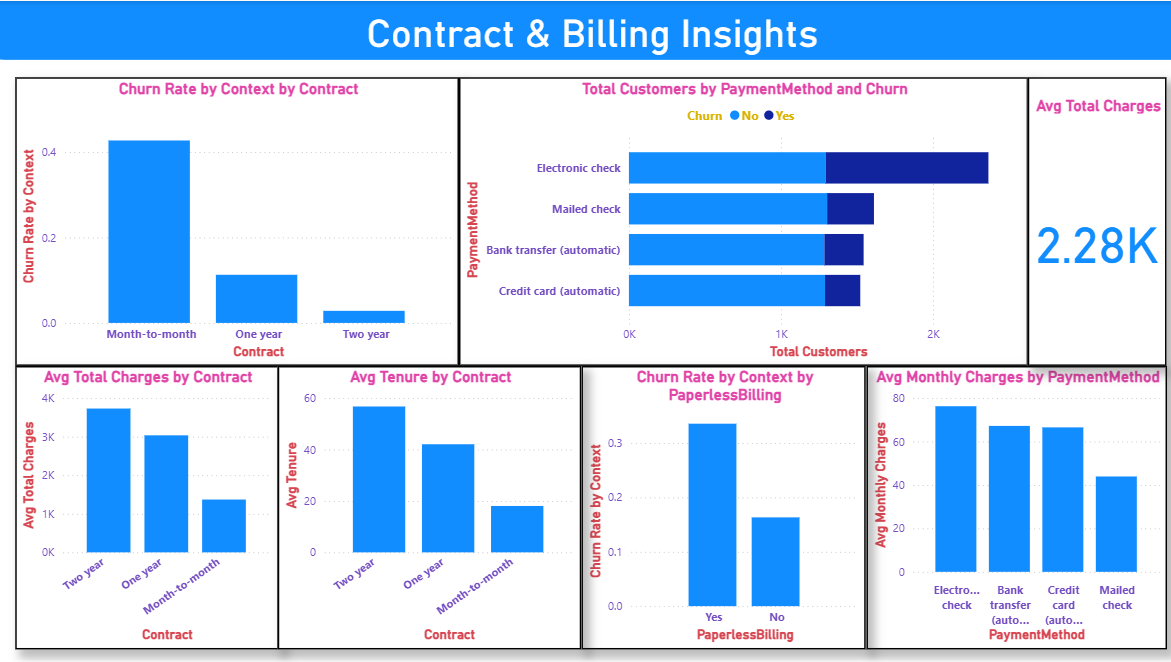

The page's visual inventory and layout, read from the dashboard file:
{"tool":"powerbi","page":{"name":"Page 3","canvas":[1280,720],"ordinal":2},"visuals":[{"type":"textbox","title":"Contract & Billing Insights","box":[0,0,1280.3,65.9],"z":0},{"type":"clusteredColumnChart","fields":{"Y":["CustomerChurnAnalysis.Churn Rate by Context"],"Category":["CustomerChurnAnalysis.Contract"]},"box":[17.6,82.2,478.6,311.3],"z":1000},{"type":"barChart","fields":{"Series":["CustomerChurnAnalysis.Churn"],"Y":["CustomerChurnAnalysis.Total Customers"],"Category":["CustomerChurnAnalysis.PaymentMethod"]},"box":[495.4,82.1,613.5,311.1],"z":2000},{"type":"clusteredColumnChart","fields":{"Y":["CustomerChurnAnalysis.Avg Total Charges"],"Category":["CustomerChurnAnalysis.Contract"]},"box":[17.3,393.2,283.7,305.3],"z":3000},{"type":"columnChart","fields":{"Y":["CustomerChurnAnalysis.Avg Monthly Charges"],"Category":["CustomerChurnAnalysis.PaymentMethod"]},"box":[934.7,393.2,324,305.3],"z":4000},{"type":"clusteredColumnChart","fields":{"Category":["CustomerChurnAnalysis.PaperlessBilling"],"Y":["CustomerChurnAnalysis.Churn Rate by Context"]},"box":[627.9,393.2,306.8,305.3],"z":5000},{"type":"columnChart","fields":{"Category":["CustomerChurnAnalysis.Contract"],"Y":["CustomerChurnAnalysis.Avg Tenure"]},"box":[301,393.2,326.9,305.3],"z":6000},{"type":"card","title":"Avg Total Charges","fields":{"Values":["CustomerChurnAnalysis.Avg Total Charges"]},"box":[1108.9,82.1,149.8,311.1],"z":7000}]}

Visuals, with their boxes in screenshot pixels (x1, y1, x2, y2), scaled from the page's 1280x720 canvas onto the 1171x662 screenshot:
"Contract & Billing Insights" textbox: (x1=0, y1=0, x2=1170, y2=61)
clusteredColumnChart - CustomerChurnAnalysis.Churn Rate by Context x CustomerChurnAnalysis.Contract: (x1=16, y1=76, x2=454, y2=362)
barChart - CustomerChurnAnalysis.Churn x CustomerChurnAnalysis.Total Customers: (x1=453, y1=75, x2=1014, y2=362)
clusteredColumnChart - CustomerChurnAnalysis.Avg Total Charges x CustomerChurnAnalysis.Contract: (x1=16, y1=362, x2=275, y2=642)
columnChart - CustomerChurnAnalysis.Avg Monthly Charges x CustomerChurnAnalysis.PaymentMethod: (x1=855, y1=362, x2=1152, y2=642)
clusteredColumnChart - CustomerChurnAnalysis.PaperlessBilling x CustomerChurnAnalysis.Churn Rate by Context: (x1=574, y1=362, x2=855, y2=642)
columnChart - CustomerChurnAnalysis.Contract x CustomerChurnAnalysis.Avg Tenure: (x1=275, y1=362, x2=574, y2=642)
"Avg Total Charges" card: (x1=1014, y1=75, x2=1152, y2=362)
